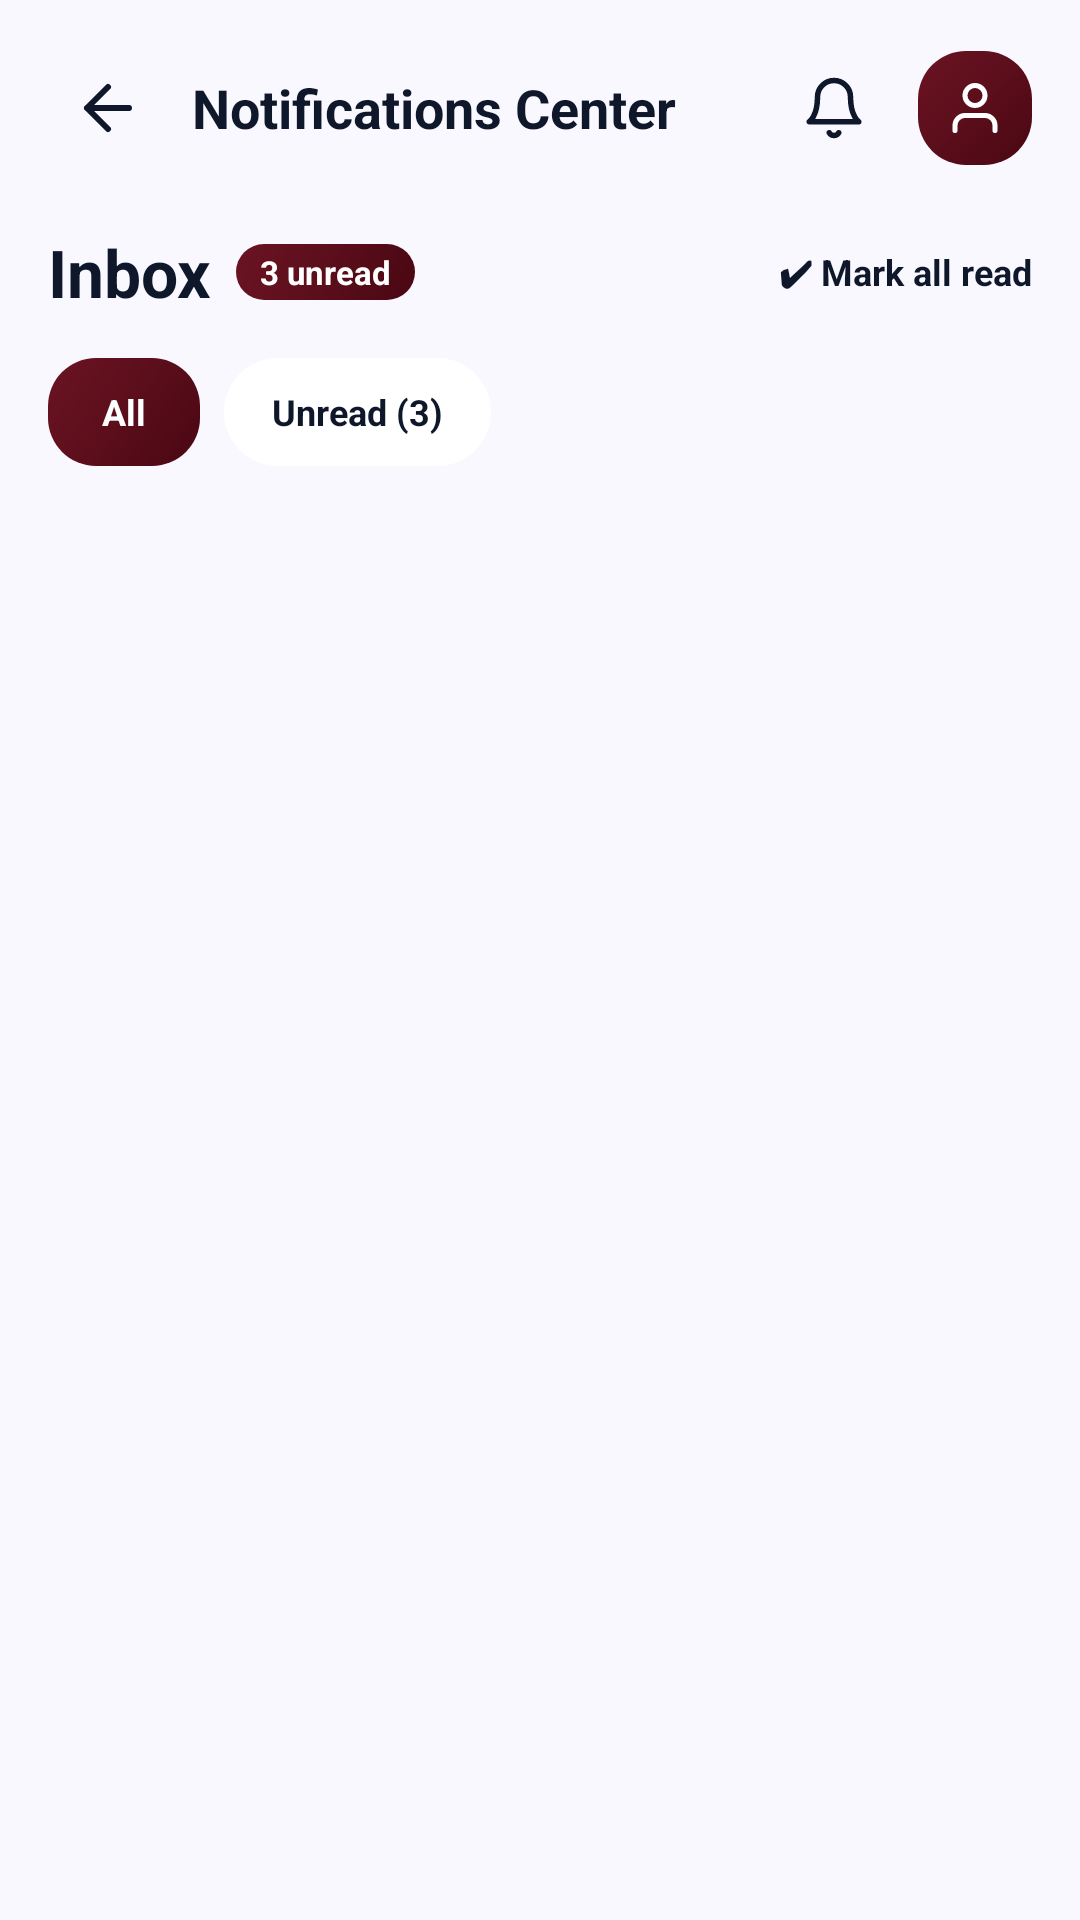

Point at icon controls on the screen. Image size 1080w x 1920h, points as [x,y].
arrow back: [108,108]
bell: [834,108]
profile: [975,108]
